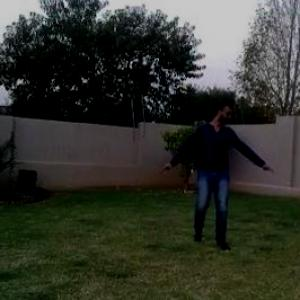land: (160, 90, 275, 248)
